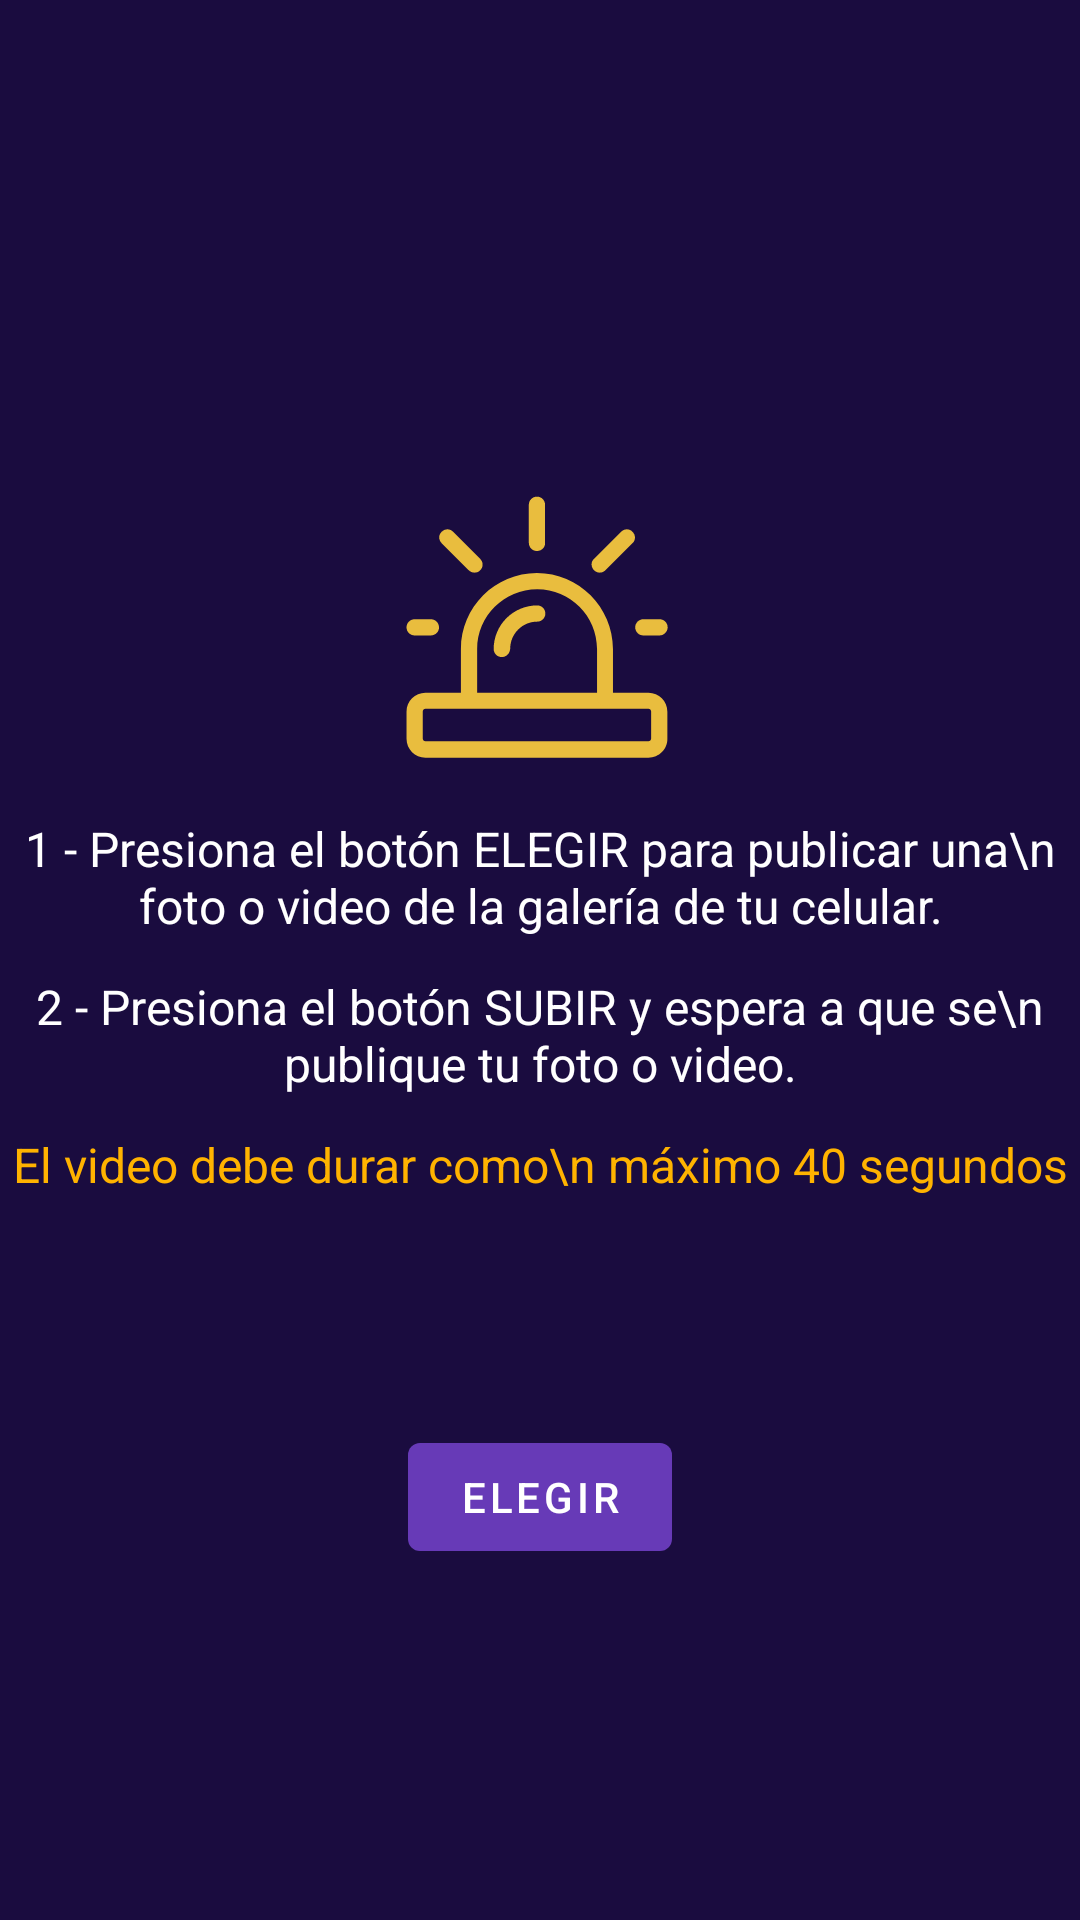

Where to tap for icons on this 1080 x 1920 app screen, as point (x, y):
alert: point (537, 627)
